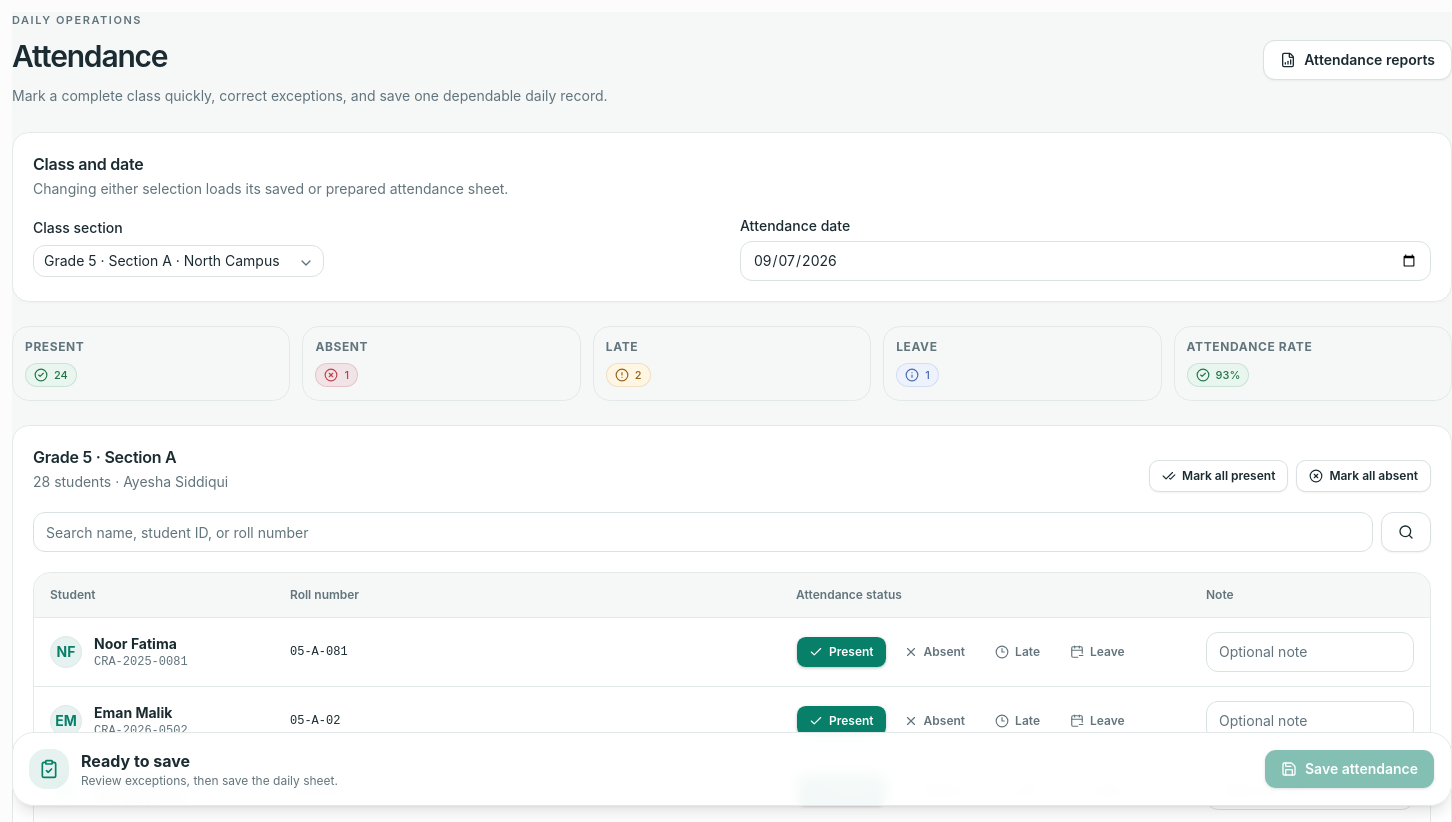
Scenario: AttendanceEntry › marks a large roster individually or in bulk and saves it
The width and height of the screenshot is (1452, 822).
Expected: the text "Grade 5 · Section A" is shown, [33,448,176,468]
Expected: the button "Present" in the row of "Fatima" is shown, [796,636,887,668]
Click the button "Mark all absent" at (1364, 476), box [1296,460,1431,492]
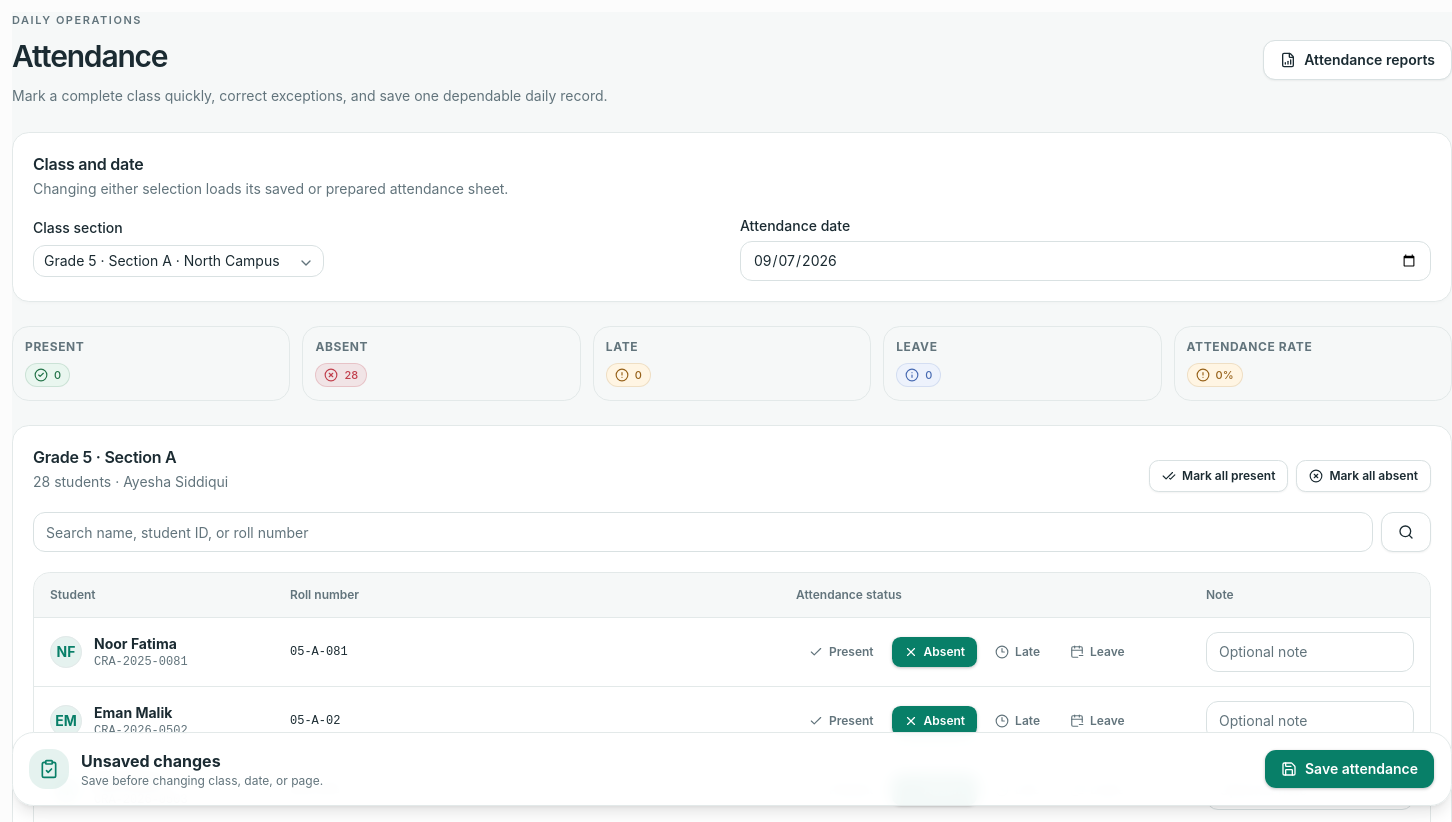
Result: the text "28" is shown at [315,364,367,388]
Click the button "Save attendance" at (1350, 769), box [1264,749,1435,789]
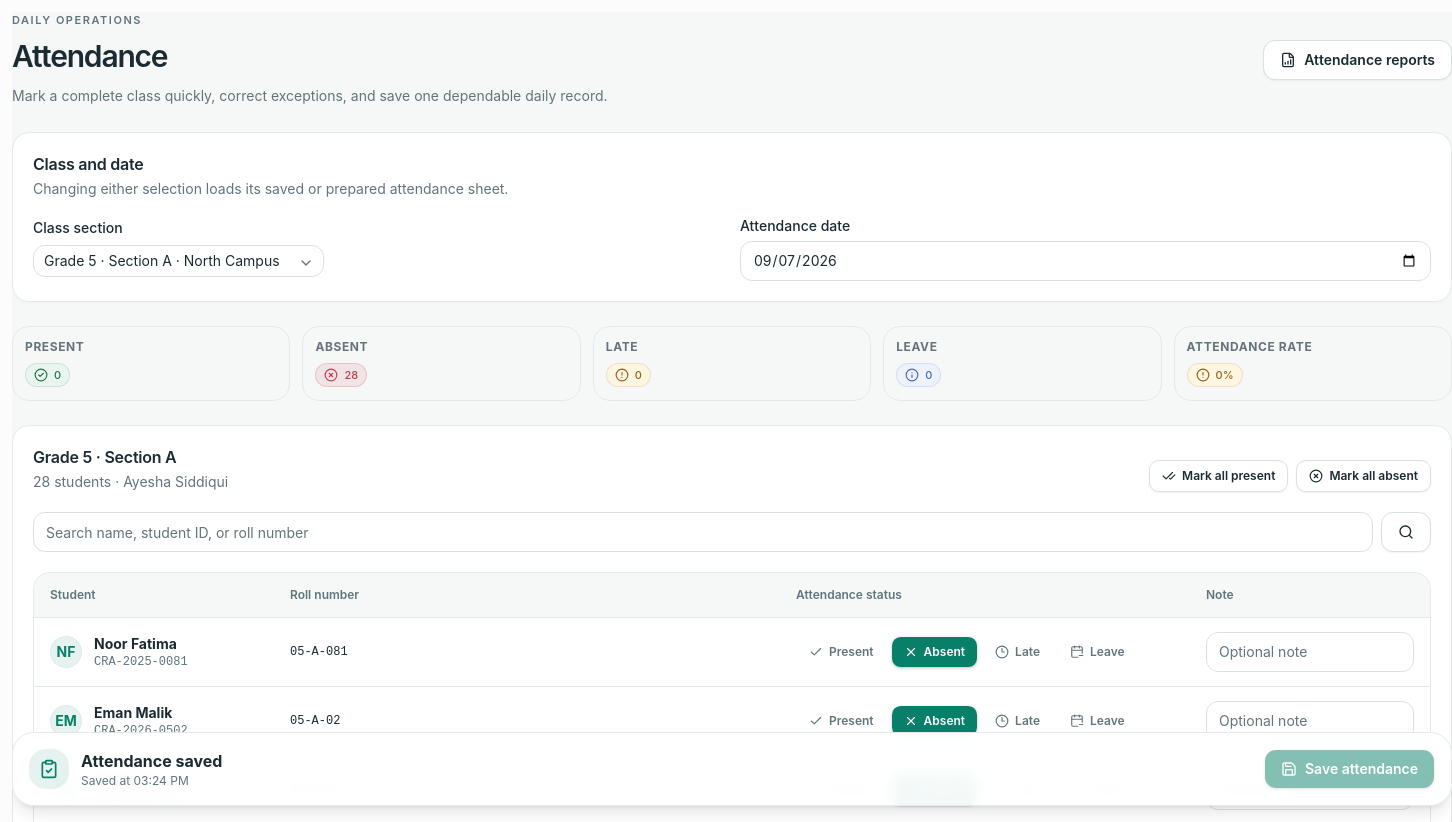
Result: the button "Save attendance" is disabled at [1264,749,1435,789]
Result: the text "Attendance saved" is shown at [81,749,222,773]
